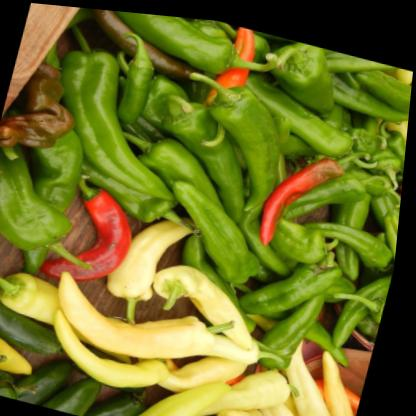--: (36, 34, 210, 207), (42, 266, 252, 378), (0, 131, 132, 280), (259, 118, 383, 259), (77, 6, 289, 84), (161, 173, 285, 285), (265, 329, 378, 416)
